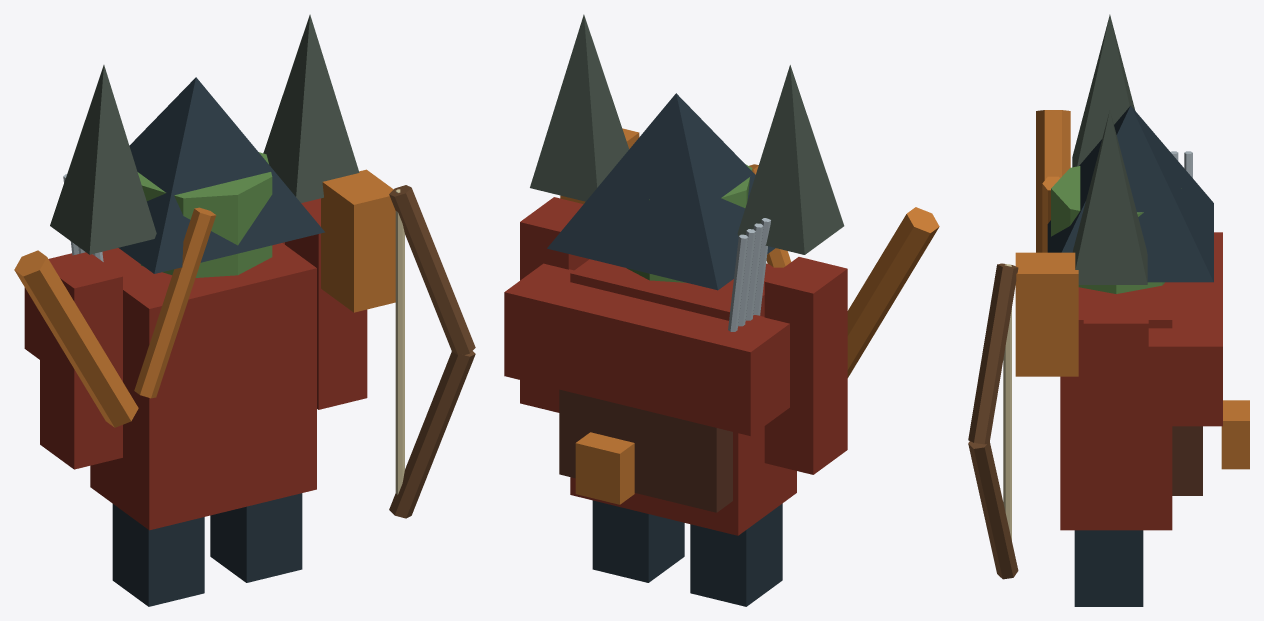
File: stone-slinger.obj
The picture shows the model from 3 angles, left to right: view 1: azimuth 30°, elevation 25°; view 2: azimuth 150°, elevation 25°; view 3: azimuth 270°, elevation 25°; orthographic projection. The views are drawn at different scales.
Visible parts, largest first — view 1: ranged; view 2: ranged; view 3: ranged.
Boxes of the visible parts, x1,y1,x2,y2 form: ranged: [14, 14, 475, 606]; ranged: [504, 14, 939, 606]; ranged: [968, 14, 1249, 606].
Bounding box in the file's own units: 1.45 × 1.79 × 0.896.
